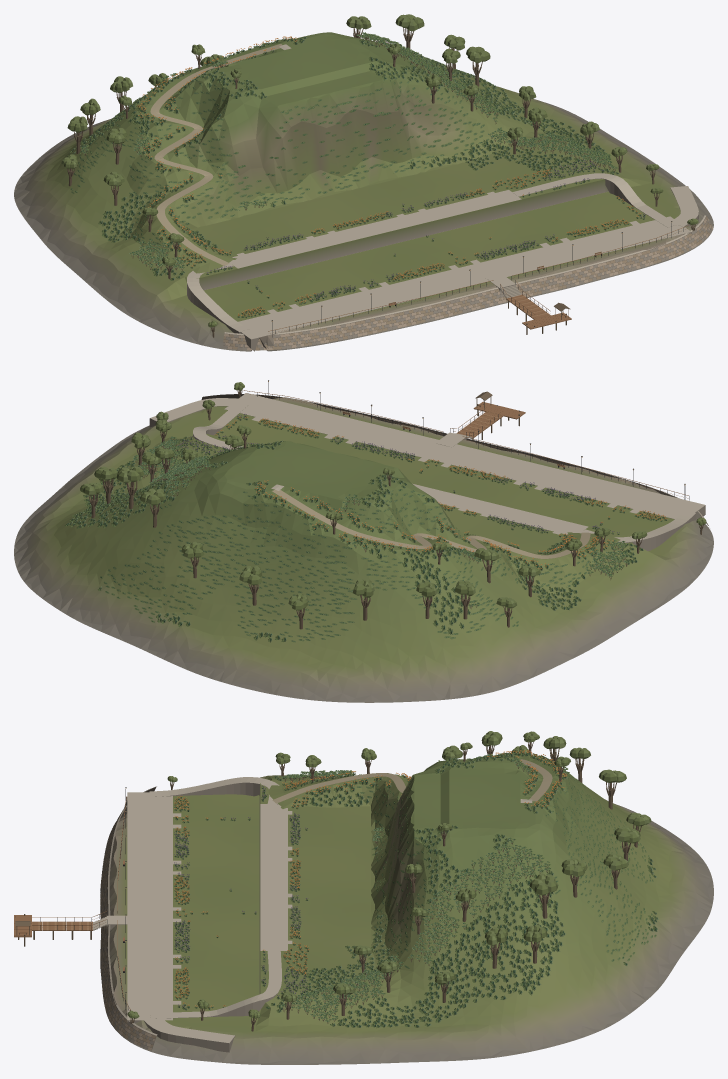
File: home-landform.glb
3 views of the same model, one above another, from view 1: azimuth 30°, elevation 25°; view 2: azimuth 150°, elevation 25°; view 3: azimuth 270°, elevation 25° (orthographic). The views are drawn at different scales.
Parts seen in each view (by area): view 1: Home_ContinuousHill, Home_HarborPromenade, Home_CoastalUnderstory, Home_HarborDressedStone, Home_FlowerDrifts, Home_SlopeLeafMats, Home_BranchedShrubs, Home_HarborSeawallCopingAndRail, Home_BackAlley, Home_SummitTrail, Home_EastAlleyRamp, Home_HarborPierAndStairs (+2 smaller); view 2: Home_ContinuousHill, Home_HarborPromenade, Home_SlopeLeafMats, Home_CoastalUnderstory, Home_FlowerDrifts, Home_BranchedShrubs, Home_BackAlley, Home_SummitTrail, Home_HarborSeawallCopingAndRail, Home_HarborPierAndStairs, Home_EastAlleyRamp, Home_EastLandingWalk (+2 smaller); view 3: Home_ContinuousHill, Home_CoastalUnderstory, Home_HarborPromenade, Home_BranchedShrubs, Home_FlowerDrifts, Home_SlopeLeafMats, Home_BackAlley, Home_HarborDressedStone, Home_HarborSeawallCopingAndRail, Home_EastAlleyRamp, Home_HarborPierAndStairs, Home_SummitTrail (+5 smaller).
Boxes of the visible parts, x1,y1,x2,y2 form: Home_ContinuousHill: (14,32,713,351); Home_HarborPromenade: (238,216,690,339); Home_CoastalUnderstory: (69,37,619,280); Home_HarborDressedStone: (222,216,713,350); Home_FlowerDrifts: (136,36,645,318); Home_SlopeLeafMats: (67,59,501,244); Home_BranchedShrubs: (81,32,618,270); Home_HarborSeawallCopingAndRail: (223,215,711,349); Home_BackAlley: (230,190,521,268); Home_SummitTrail: (150,44,281,265); Home_EastAlleyRamp: (512,173,677,227); Home_HarborPierAndStairs: (500,280,571,334); Home_ContinuousHill: (14,395,713,702); Home_HarborPromenade: (224,393,704,518); Home_SlopeLeafMats: (100,441,589,642); Home_CoastalUnderstory: (65,436,643,642); Home_FlowerDrifts: (178,414,667,575); Home_BranchedShrubs: (133,436,629,608); Home_BackAlley: (412,483,588,534); Home_SummitTrail: (272,489,590,558); Home_HarborSeawallCopingAndRail: (201,390,708,525); Home_HarborPierAndStairs: (450,402,525,439); Home_EastAlleyRamp: (193,402,249,449); Home_EastLandingWalk: (150,398,239,421); Home_ContinuousHill: (106,754,713,1064); Home_CoastalUnderstory: (271,752,658,1027); Home_HarborPromenade: (127,792,172,1020); Home_BranchedShrubs: (280,753,569,1023); Home_FlowerDrifts: (174,750,567,1010); Home_SlopeLeafMats: (265,759,656,1009); Home_BackAlley: (260,804,287,950); Home_HarborDressedStone: (100,787,155,1050); Home_HarborSeawallCopingAndRail: (101,786,157,1048); Home_EastAlleyRamp: (149,951,281,1018); Home_HarborPierAndStairs: (14,911,107,946); Home_SummitTrail: (272,759,552,803).
Bounding box in the file's own units: 134 × 30.54 × 139.
